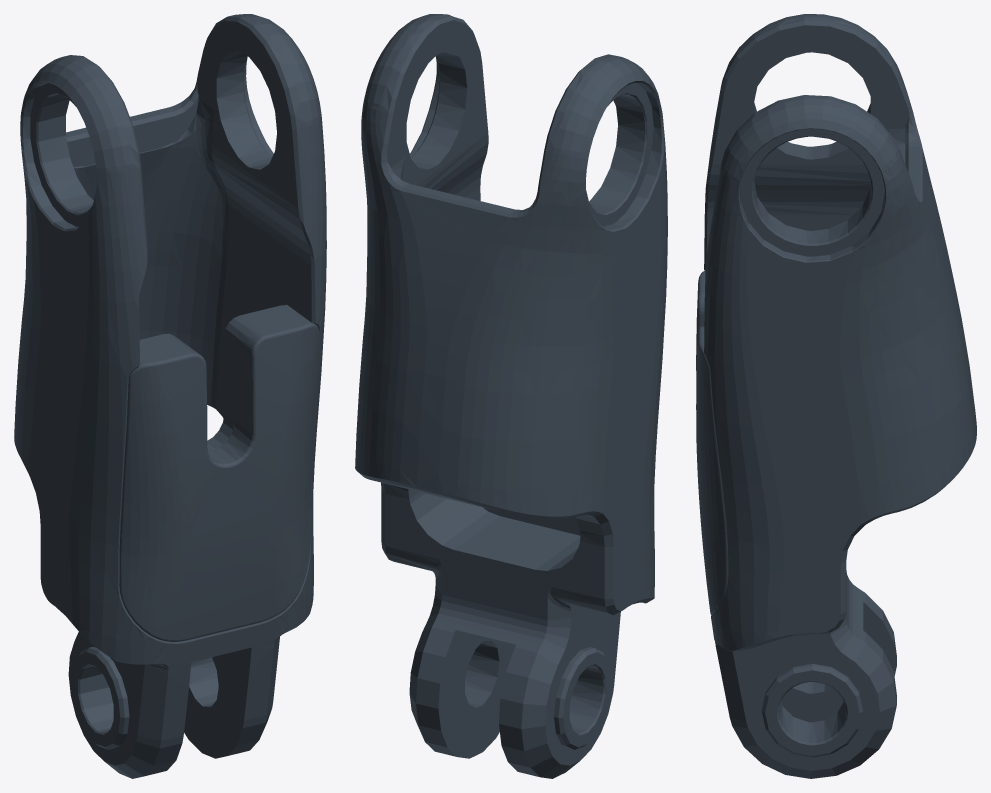
Rendered from lf_mcp_pitch_link.glb.
The picture shows the model from 3 angles, left to right: view 1: azimuth 30°, elevation 25°; view 2: azimuth 150°, elevation 25°; view 3: azimuth 270°, elevation 25°; orthographic projection. The views are drawn at different scales.
Visible parts, largest first — view 1: lf_mcp_pitch; view 2: lf_mcp_pitch; view 3: lf_mcp_pitch.
Part boxes in pixels (x1=…): lf_mcp_pitch: x1=14, y1=14, x2=326, y2=778; lf_mcp_pitch: x1=355, y1=14, x2=667, y2=778; lf_mcp_pitch: x1=696, y1=14, x2=976, y2=778.
Size of the model in its own units: 0.0154 by 0.0455 by 0.0166.
